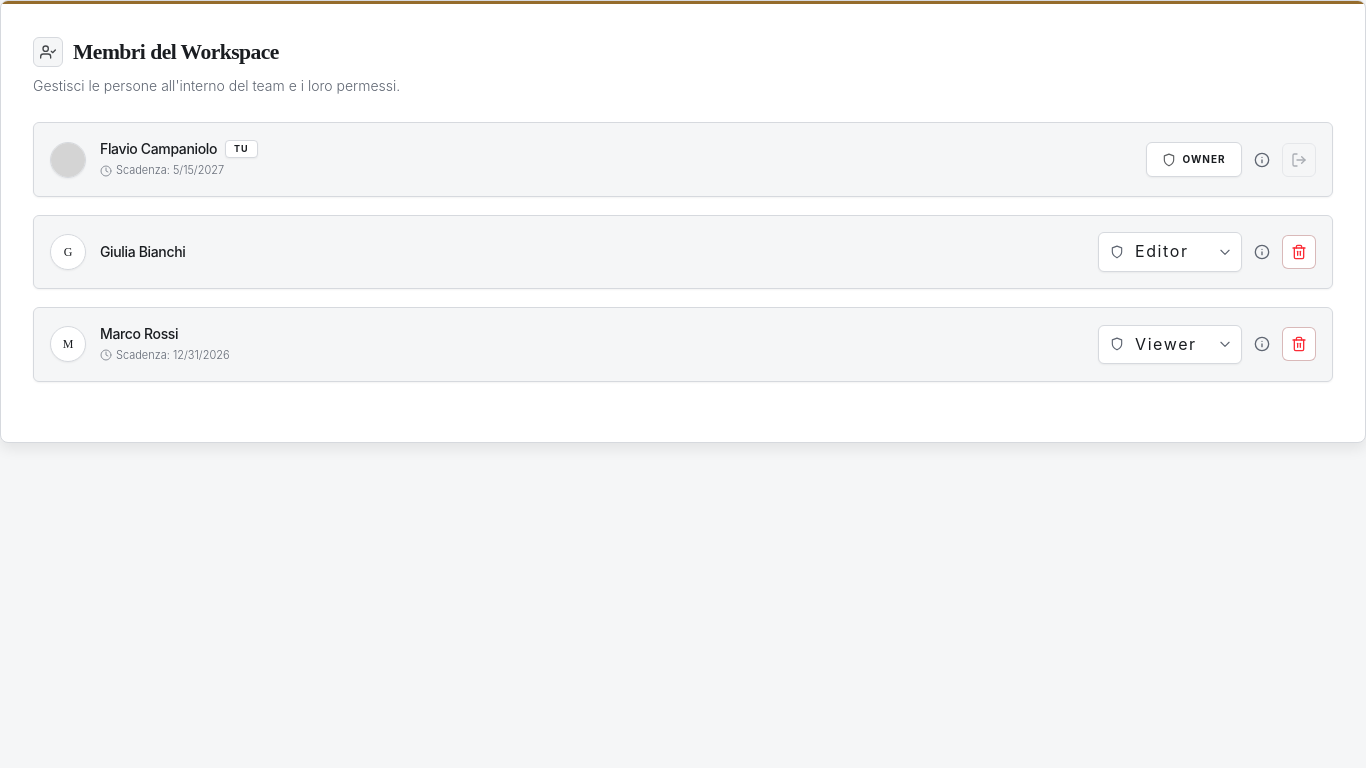
Test case: TeamMembers Component Suite › permette al manager di rimuovere un altro membro e di annullare la modale
The width and height of the screenshot is (1366, 768).
Note: Apertura modale per Giulia Bianchi
Click the button titled "Rimuovi membro" in the row of "Giulia Bianchi" at (1299, 252), box [1282,235,1316,269]
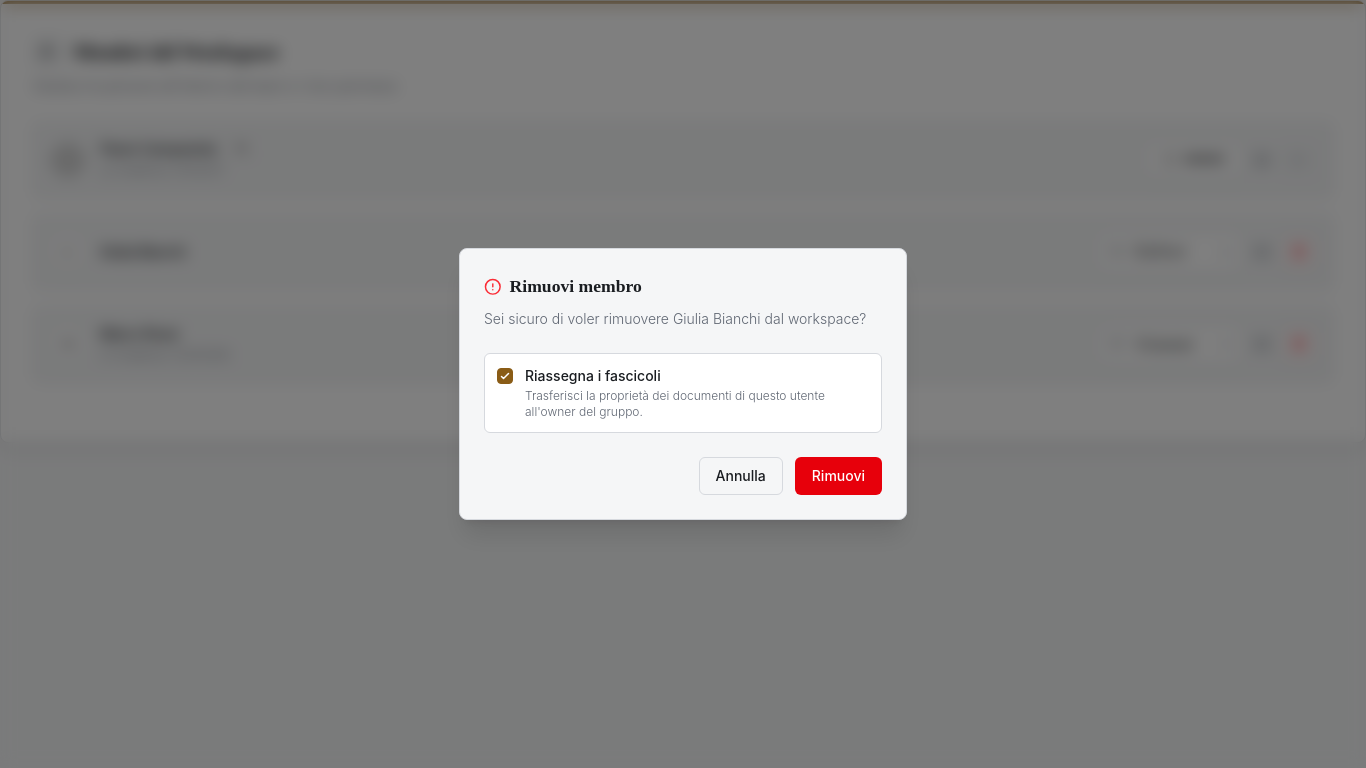
Expected: the heading "Rimuovi membro" is shown, [484,276,642,296]
Expected: the text "Sei sicuro di voler rimuovere Giulia Bianchi dal workspace?" is shown, [484,309,882,329]
Note: Annulla azione
Click the button "Annulla" at (741, 476), box [699,457,783,495]
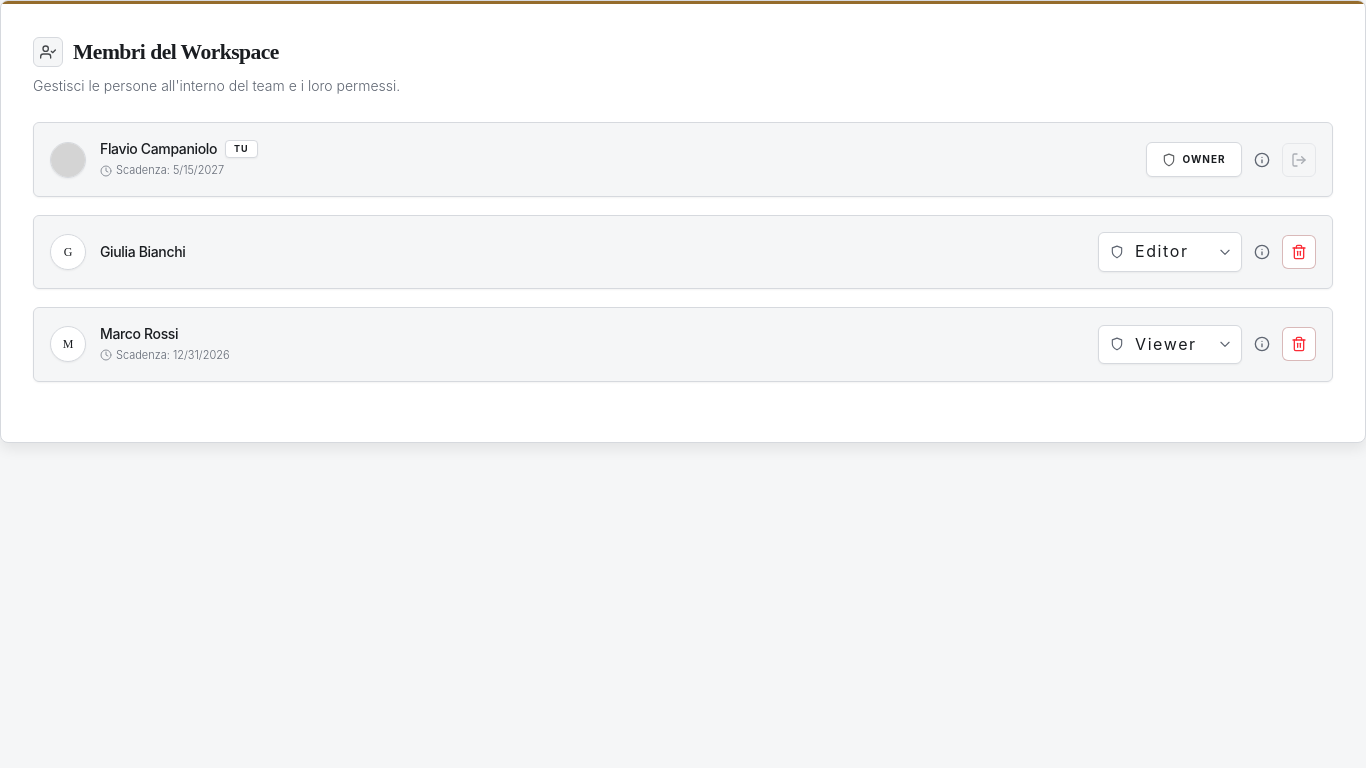
Expected: the heading "Rimuovi membro" is gone
